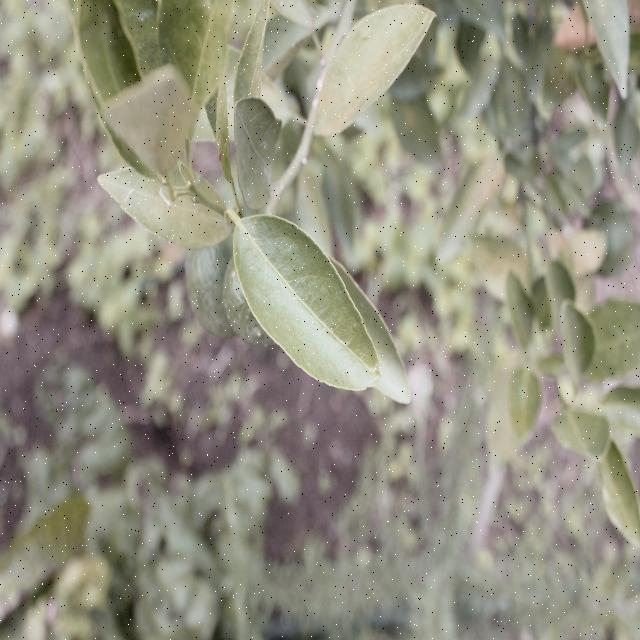blackspot: (315, 310, 374, 388)
